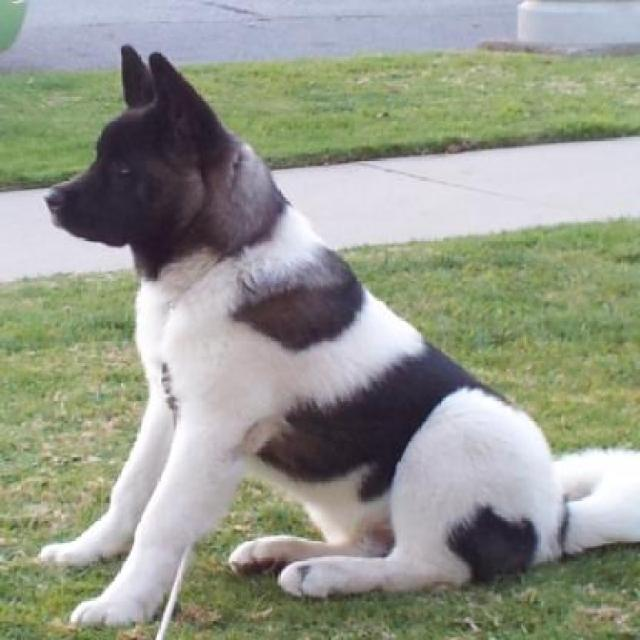animals: (51, 29, 640, 620)
